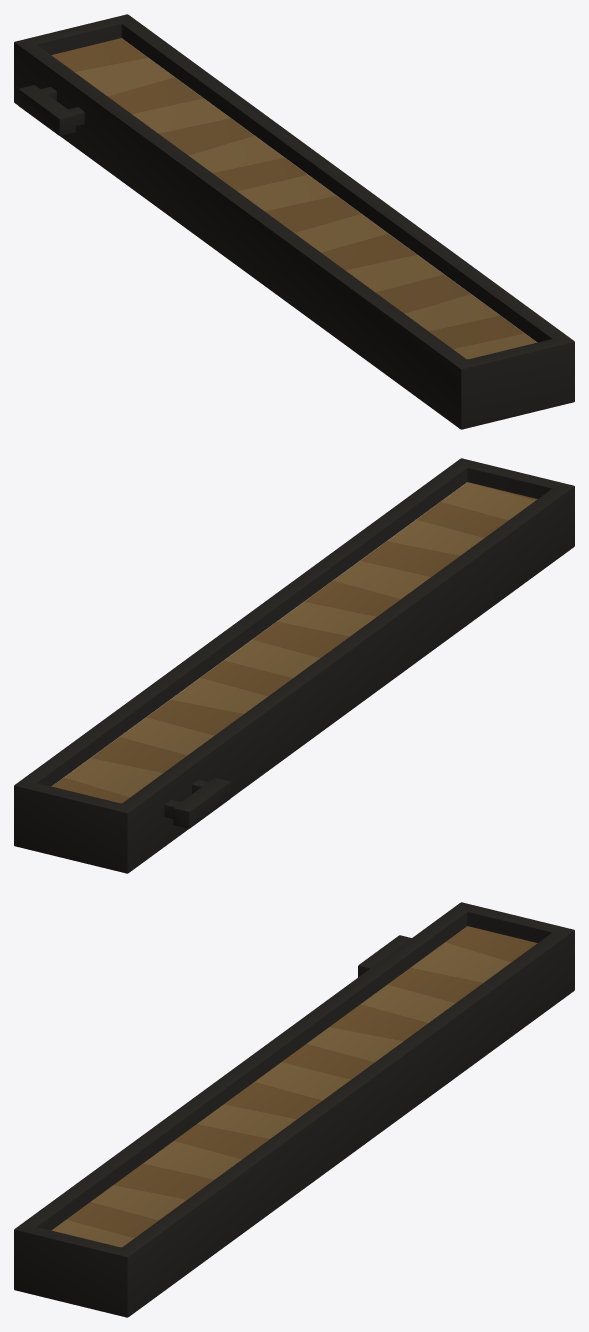
File: DefaultLevel_ConveyerBelt_Out.fbx
3 renders of one model, top to bottom at view 1: azimuth 30°, elevation 25°; view 2: azimuth 150°, elevation 25°; view 3: azimuth 330°, elevation 25°, orthographic.
Visible parts, largest first — view 1: DefaultLevel_ConveyerBelt_Out; view 2: DefaultLevel_ConveyerBelt_Out; view 3: DefaultLevel_ConveyerBelt_Out.
Boxes of the visible parts, <box> form: DefaultLevel_ConveyerBelt_Out: <box>14,14,574,429</box>; DefaultLevel_ConveyerBelt_Out: <box>14,458,574,873</box>; DefaultLevel_ConveyerBelt_Out: <box>14,902,574,1317</box>.
Bounding box in the file's own units: 250 × 102 × 1356.
